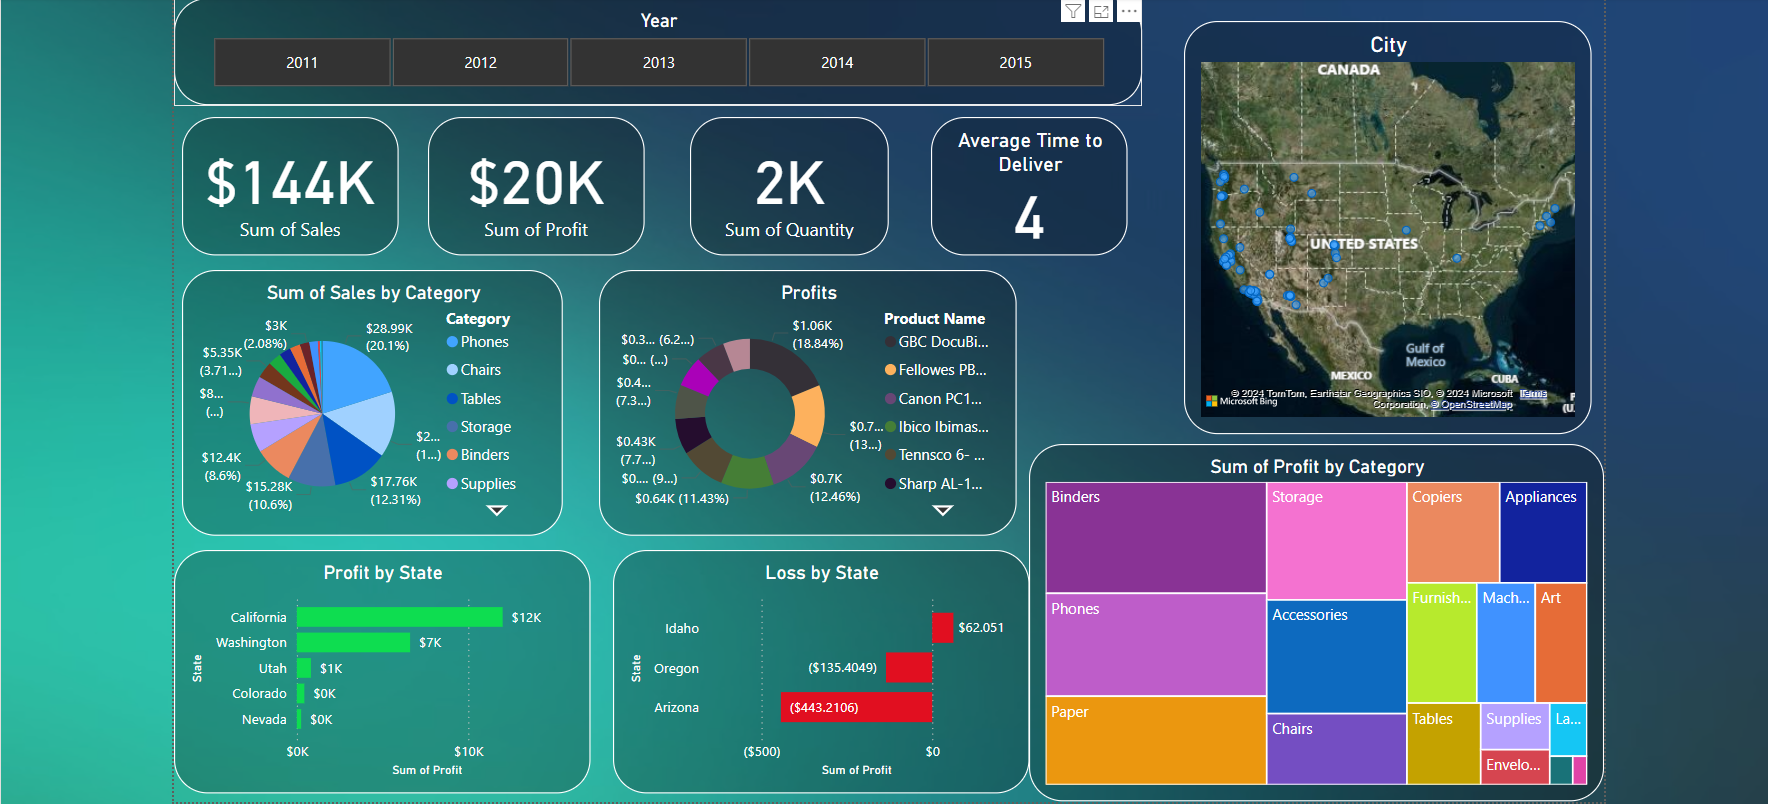

Layout of this report page (visuals, bound fields, positions):
{"tool":"powerbi","page":{"name":"Page 1","canvas":[1280,720],"ordinal":0},"visuals":[{"type":"map","fields":{"Category":["Walmart.City"]},"box":[904.6,20.4,364.7,369.6],"z":0},{"type":"slicer","title":"Year","fields":{"Values":["Walmart.Year"]},"box":[0,0,866.6,96.3],"z":1000},{"type":"barChart","title":"Profit by State","fields":{"Y":["Sum(Walmart.Profit)"],"Category":["Walmart.State"]},"box":[0,494.1,372.5,217.9],"z":2000},{"type":"barChart","title":"Loss by State","fields":{"Y":["Sum(Walmart.Profit)"],"Category":["Walmart.State"]},"box":[392.9,494.1,372.5,217.9],"z":3000},{"type":"card","fields":{"Values":["Sum(Walmart.Sales)"]},"box":[6.8,107,193.6,124.5],"z":4000},{"type":"card","fields":{"Values":["Sum(Walmart.Profit)"]},"box":[227.6,107,193.6,124.5],"z":5000},{"type":"card","fields":{"Values":["Sum(Walmart.Quantity)"]},"box":[462,107,178,124.5],"z":6000},{"type":"treemap","fields":{"Group":["Walmart.Category"],"Values":["Sum(Walmart.Profit)"]},"box":[765.5,399.8,514.5,320],"z":7000},{"type":"pieChart","fields":{"Category":["Walmart.Category"],"Y":["Sum(Walmart.Sales)"]},"box":[6.8,243.2,341.4,238.3],"z":8000},{"type":"card","title":"Average Time to Deliver","fields":{"Values":["Avg(Walmart.Delivery Time)"]},"box":[677.9,107,176,124.5],"z":9000},{"type":"donutChart","title":"Profits ","fields":{"Category":["Walmart.Product Name"],"Y":["Sum(Walmart.Profit)"]},"box":[380.6,243.6,374.3,238.2],"z":10000}]}

Visuals, with their boxes in screenshot pixels (x1, y1, x2, y2):
map - Walmart.City: 1178,18,1580,426
"Year" slicer: 180,0,1136,102
"Profit by State" barChart: 180,541,591,781
"Loss by State" barChart: 613,541,1024,781
card - Sum(Walmart.Sales): 187,113,401,251
card - Sum(Walmart.Profit): 431,113,644,251
card - Sum(Walmart.Quantity): 689,113,886,251
treemap - Walmart.Category x Sum(Walmart.Profit): 1024,437,1592,790
pieChart - Walmart.Category x Sum(Walmart.Sales): 187,264,564,527
"Average Time to Deliver" card: 928,113,1122,251
"Profits " donutChart: 600,264,1013,527
